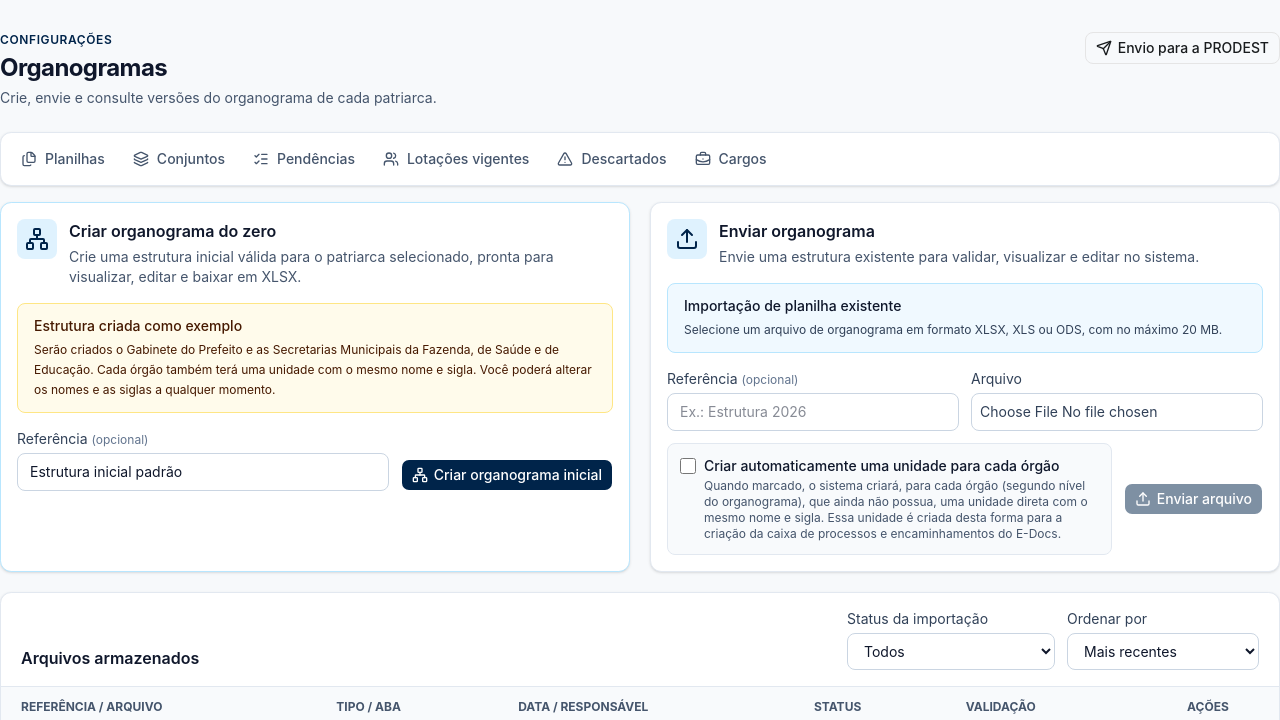
it: telas de importação › cria um organograma inicial em card separado e abre a visualização
Check: the text "Importação de planilha existente" is shown, box [684, 297, 901, 314]
Check: the text "alterar os nomes e as siglas a qualquer momento" is shown, box [34, 342, 592, 397]
Replace the text in the field labelled "Referência (opcional)" below "Estrutura criada como exemplo" with " Modelo 2026 ". click: (203, 472)
box: [17, 453, 389, 491]
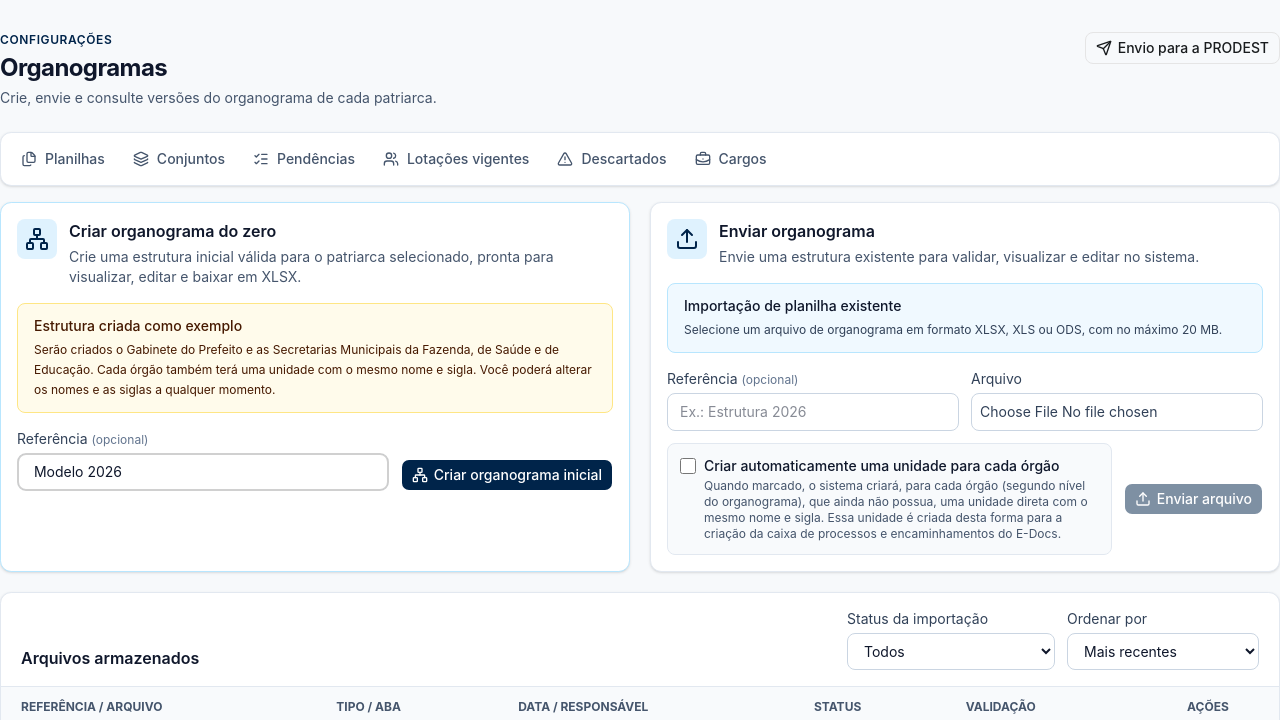
Click the button "Criar organograma inicial". click: click(507, 475)
box: [401, 459, 613, 491]
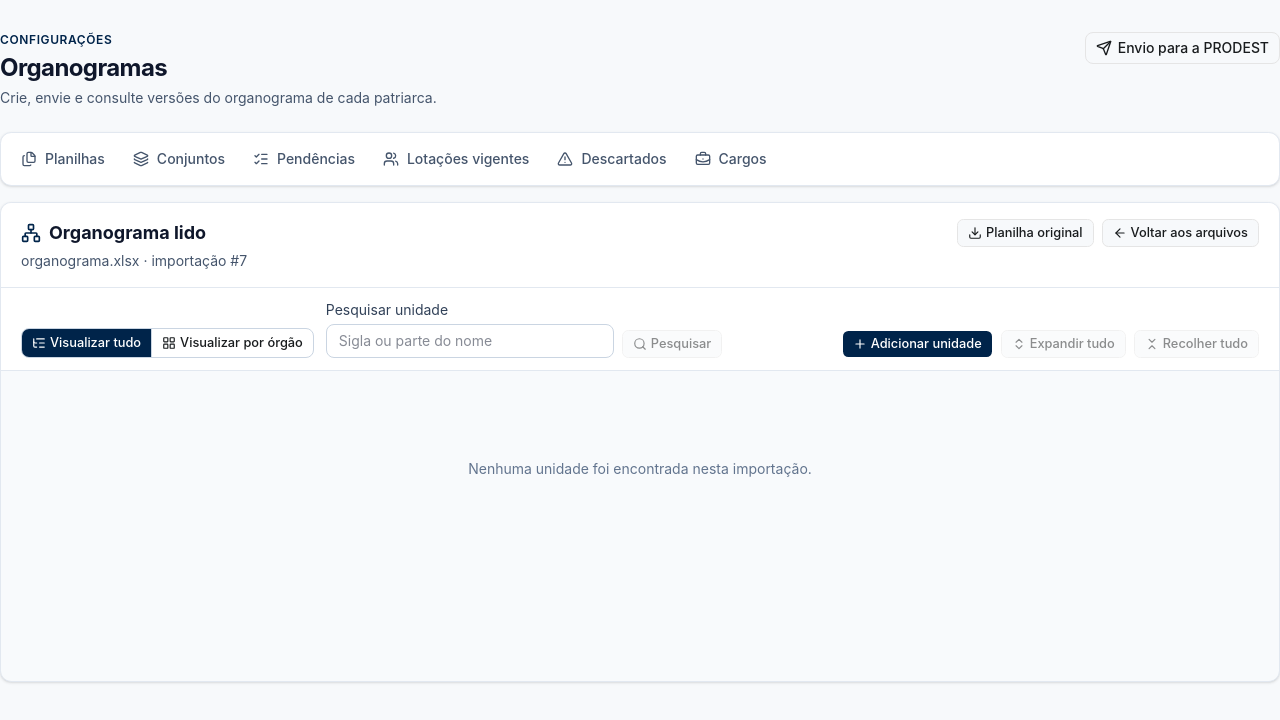
Check: the element "Organograma lido" is shown
